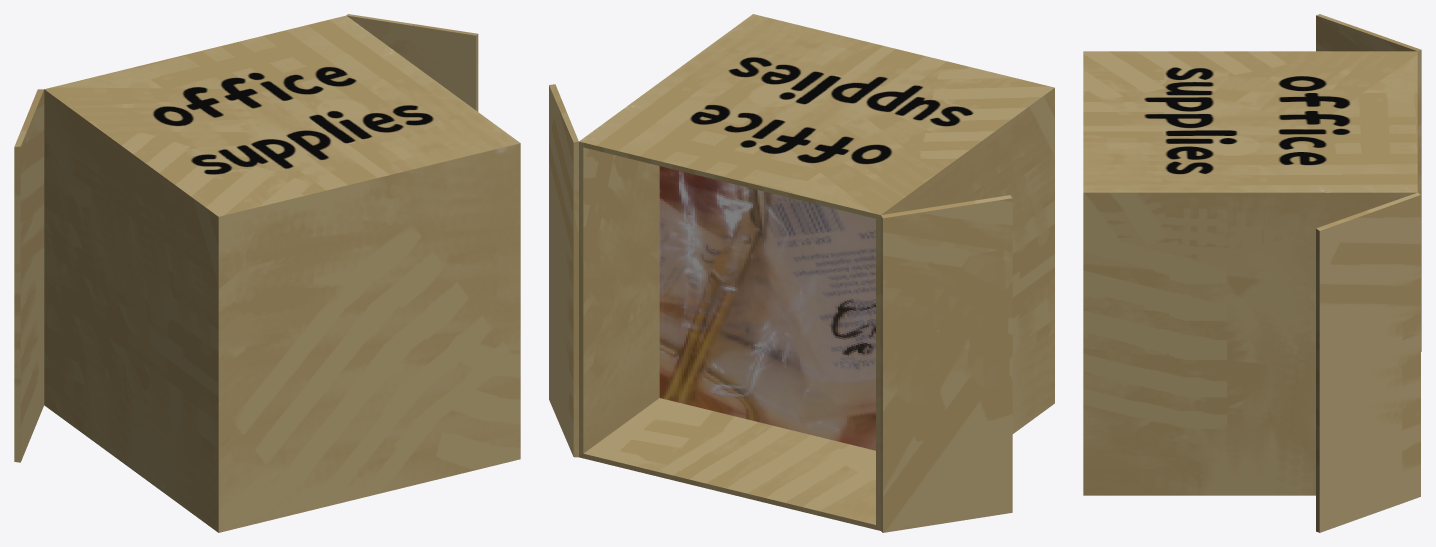
The model's file is ammopack.fbx.
3 views of the same model, side by side, from view 1: azimuth 30°, elevation 25°; view 2: azimuth 150°, elevation 25°; view 3: azimuth 270°, elevation 25° (orthographic). The views are drawn at different scales.
Visible parts, largest first — view 1: Cube; view 2: Cube; view 3: Cube.
Part boxes in pixels (bbox=[...]): Cube: bbox=[14, 14, 520, 532]; Cube: bbox=[549, 14, 1054, 532]; Cube: bbox=[1083, 14, 1421, 532].
Size of the model in its own units: 307 by 200 by 202.
